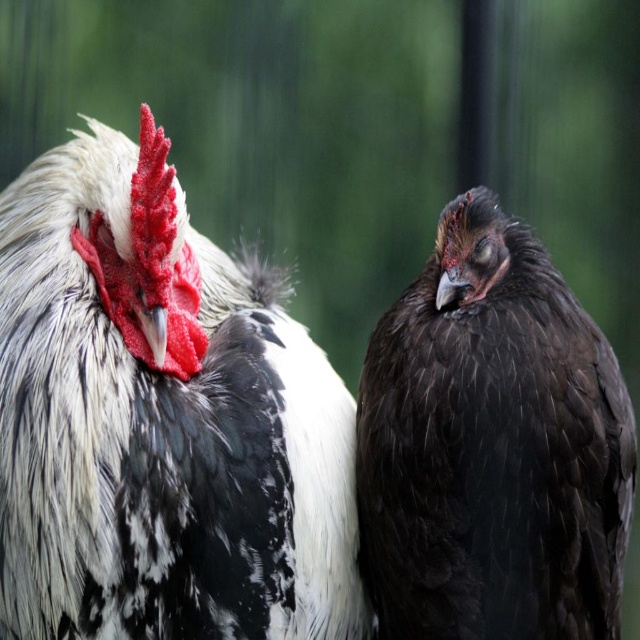Chicken: (24, 113, 388, 640), (356, 185, 639, 639)
